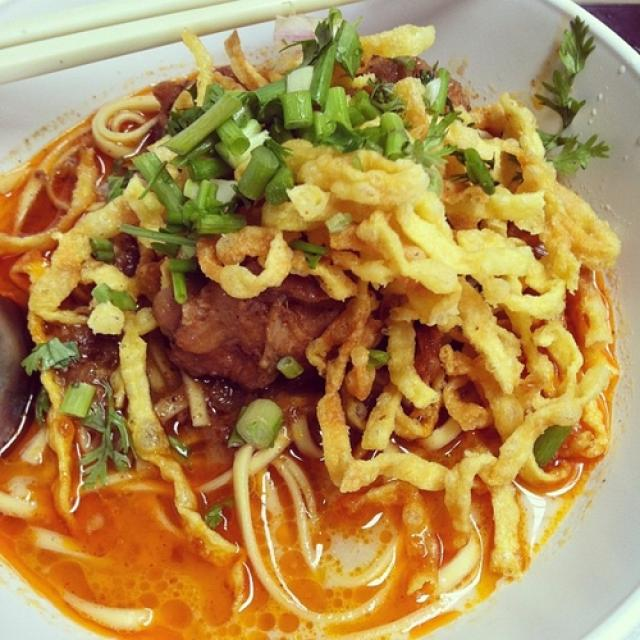面条主食: (19, 40, 613, 608)
